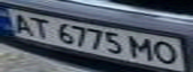5: (103, 29, 127, 56)
6: (51, 20, 75, 45)
7: (84, 26, 106, 52), (69, 24, 87, 47)
A: (6, 10, 36, 35)
M: (127, 34, 157, 62)
O: (151, 38, 184, 66)
T: (27, 15, 54, 39)
